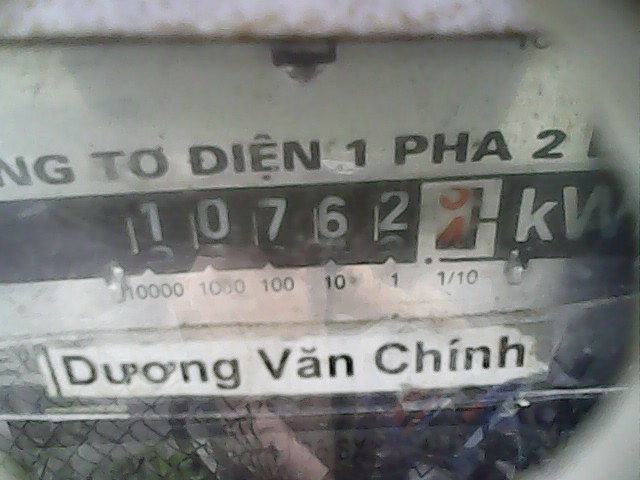phy_plate: (108, 170, 513, 268)
